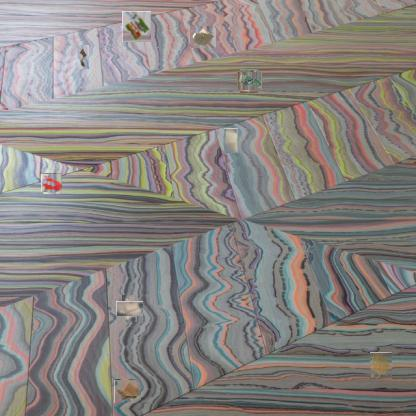dirty: (122, 11, 151, 42), (114, 379, 141, 403), (190, 26, 216, 48), (238, 70, 260, 92), (119, 298, 140, 319), (224, 128, 238, 153), (77, 45, 89, 69)
liquid: (370, 352, 392, 379), (42, 174, 62, 193)
